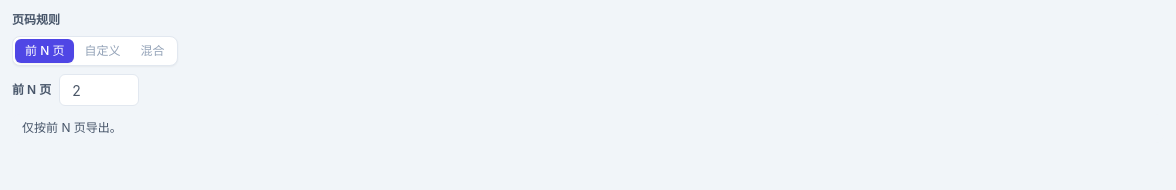
Test case: PageRuleInput › 点击「混合」显示前 N 页 + 自定义输入
This screenshot has width=1176, height=190.
Click the button "混合" at (152, 51), box [130,39,174,63]
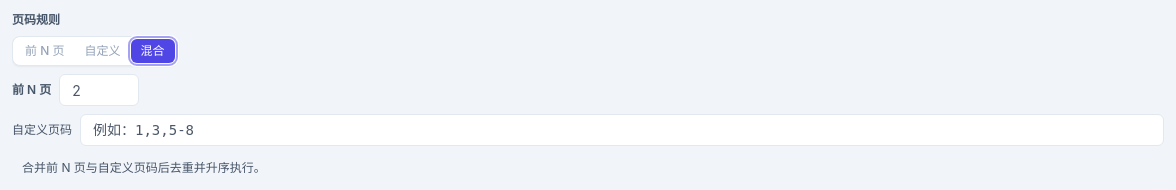
expect the number field with placeholder "2" is shown: met, box [59,74,139,106]
expect the field with placeholder "例如：1,3,5-8" is shown: met, box [80,114,1164,146]
